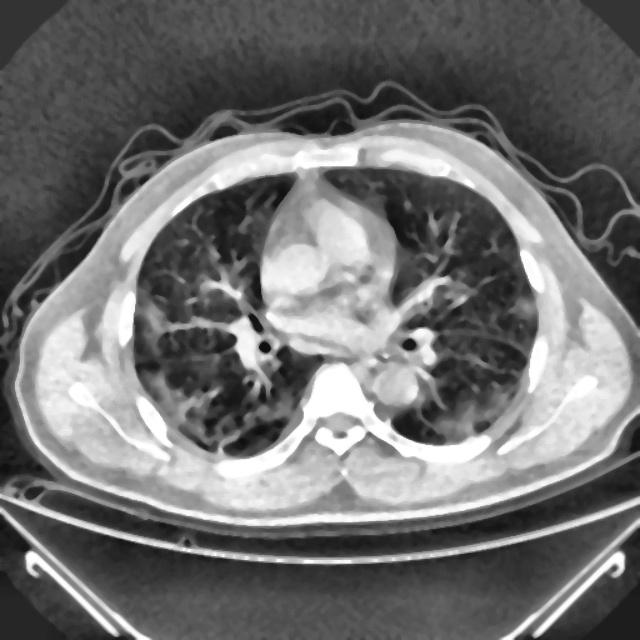covid: (4, 87, 638, 540)
